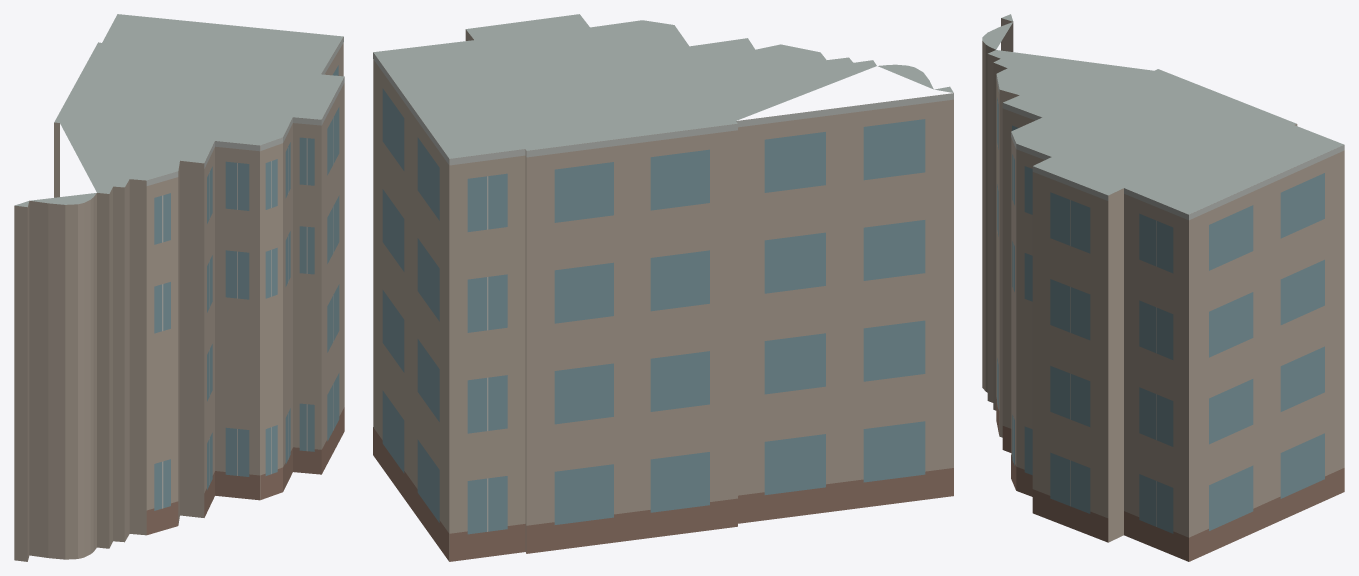
Rendered from survey-upis-32970296.glb.
3 views of the same model, side by side, from view 1: azimuth 30°, elevation 25°; view 2: azimuth 150°, elevation 25°; view 3: azimuth 270°, elevation 25° (orthographic). The views are drawn at different scales.
Visible parts, largest first — view 1: survey-upis-32970296.tmp; view 2: survey-upis-32970296.tmp; view 3: survey-upis-32970296.tmp.
Boxes of the visible parts, left/top/right/bottom form: survey-upis-32970296.tmp: left=14, top=14, right=344, bottom=561; survey-upis-32970296.tmp: left=373, top=14, right=953, bottom=561; survey-upis-32970296.tmp: left=982, top=14, right=1344, bottom=561.
Size of the model in its own units: 18.6 by 14.99 by 14.19.
